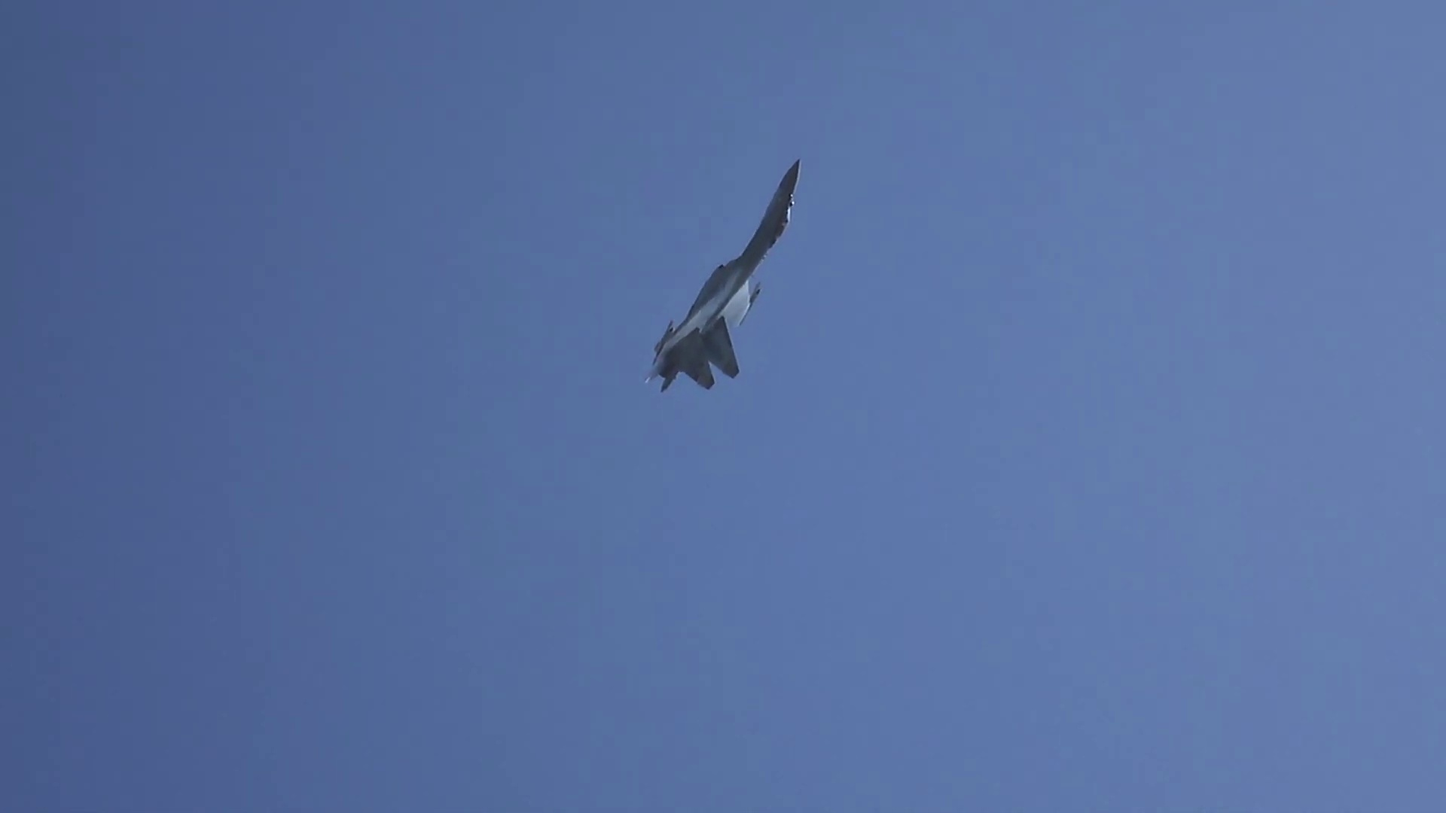Su35: (644, 158, 803, 392)
